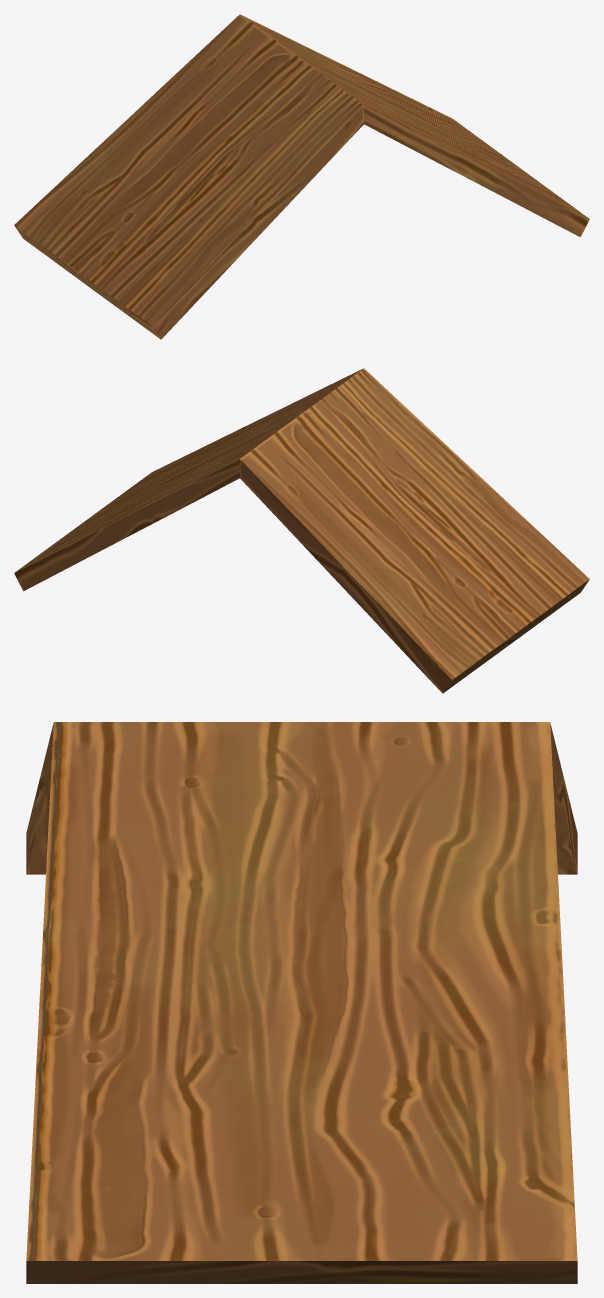
The picture shows the model from 3 angles, top to bottom: view 1: azimuth 30°, elevation 25°; view 2: azimuth 150°, elevation 25°; view 3: azimuth 270°, elevation 25°; orthographic projection. The views are drawn at different scales.
Parts seen in each view (by area): view 1: Cube.1517; view 2: Cube.1517; view 3: Cube.1517.
Boxes of the visible parts, box(x1,y1,x2,y2) form: Cube.1517: box(14, 14, 589, 339); Cube.1517: box(14, 368, 589, 693); Cube.1517: box(26, 722, 577, 1283).
Bounding box in the file's own units: 1002 × 390 × 546.
Materials: 1 (1 with a texture image).
